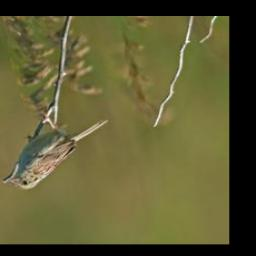Sparrow: (6, 109, 109, 192)
